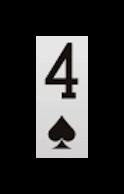4S: (39, 39, 84, 153)
